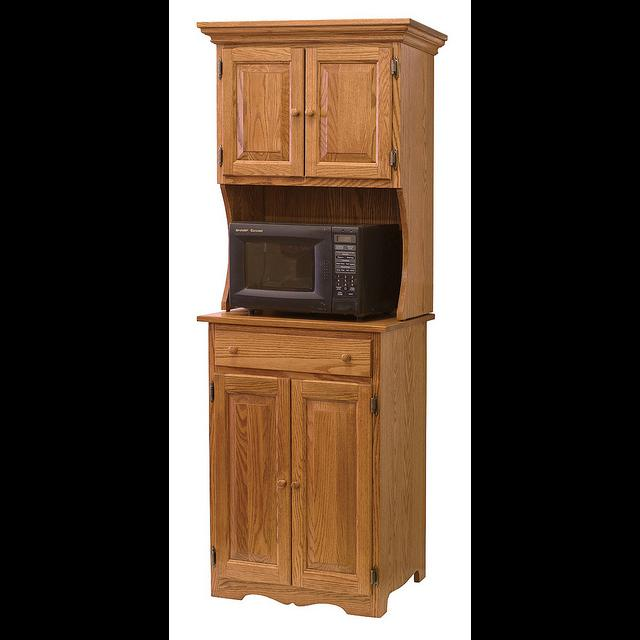Microwave: (218, 217, 402, 324)
